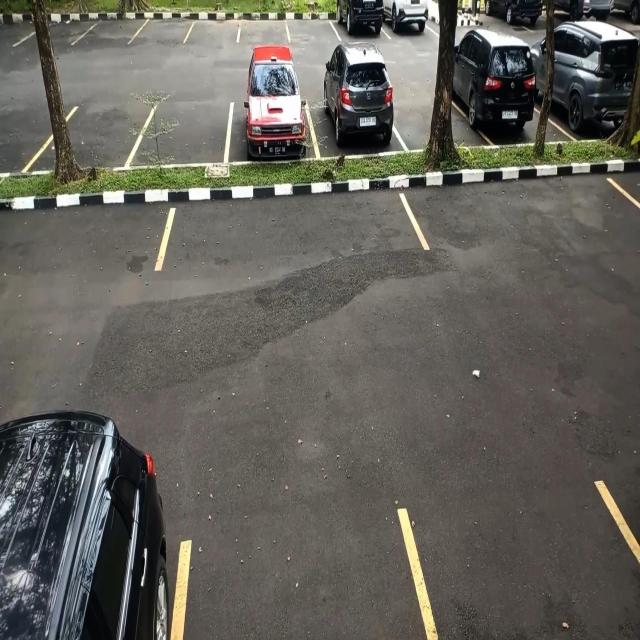empty: (162, 178, 413, 265), (414, 171, 640, 258), (50, 99, 140, 171), (139, 95, 227, 163)
occupied: (550, 31, 632, 140), (455, 42, 541, 145), (313, 71, 399, 155), (228, 90, 314, 163)
